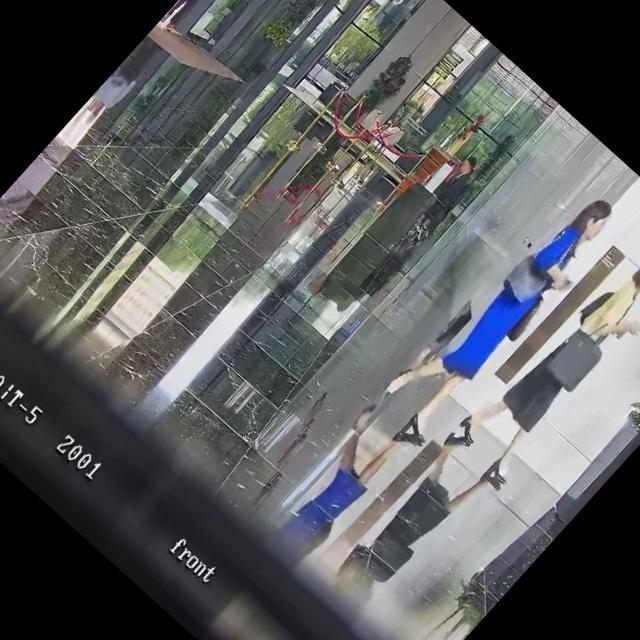person: (362, 174, 627, 458), (440, 223, 640, 492), (157, 0, 254, 35), (431, 148, 487, 207)
